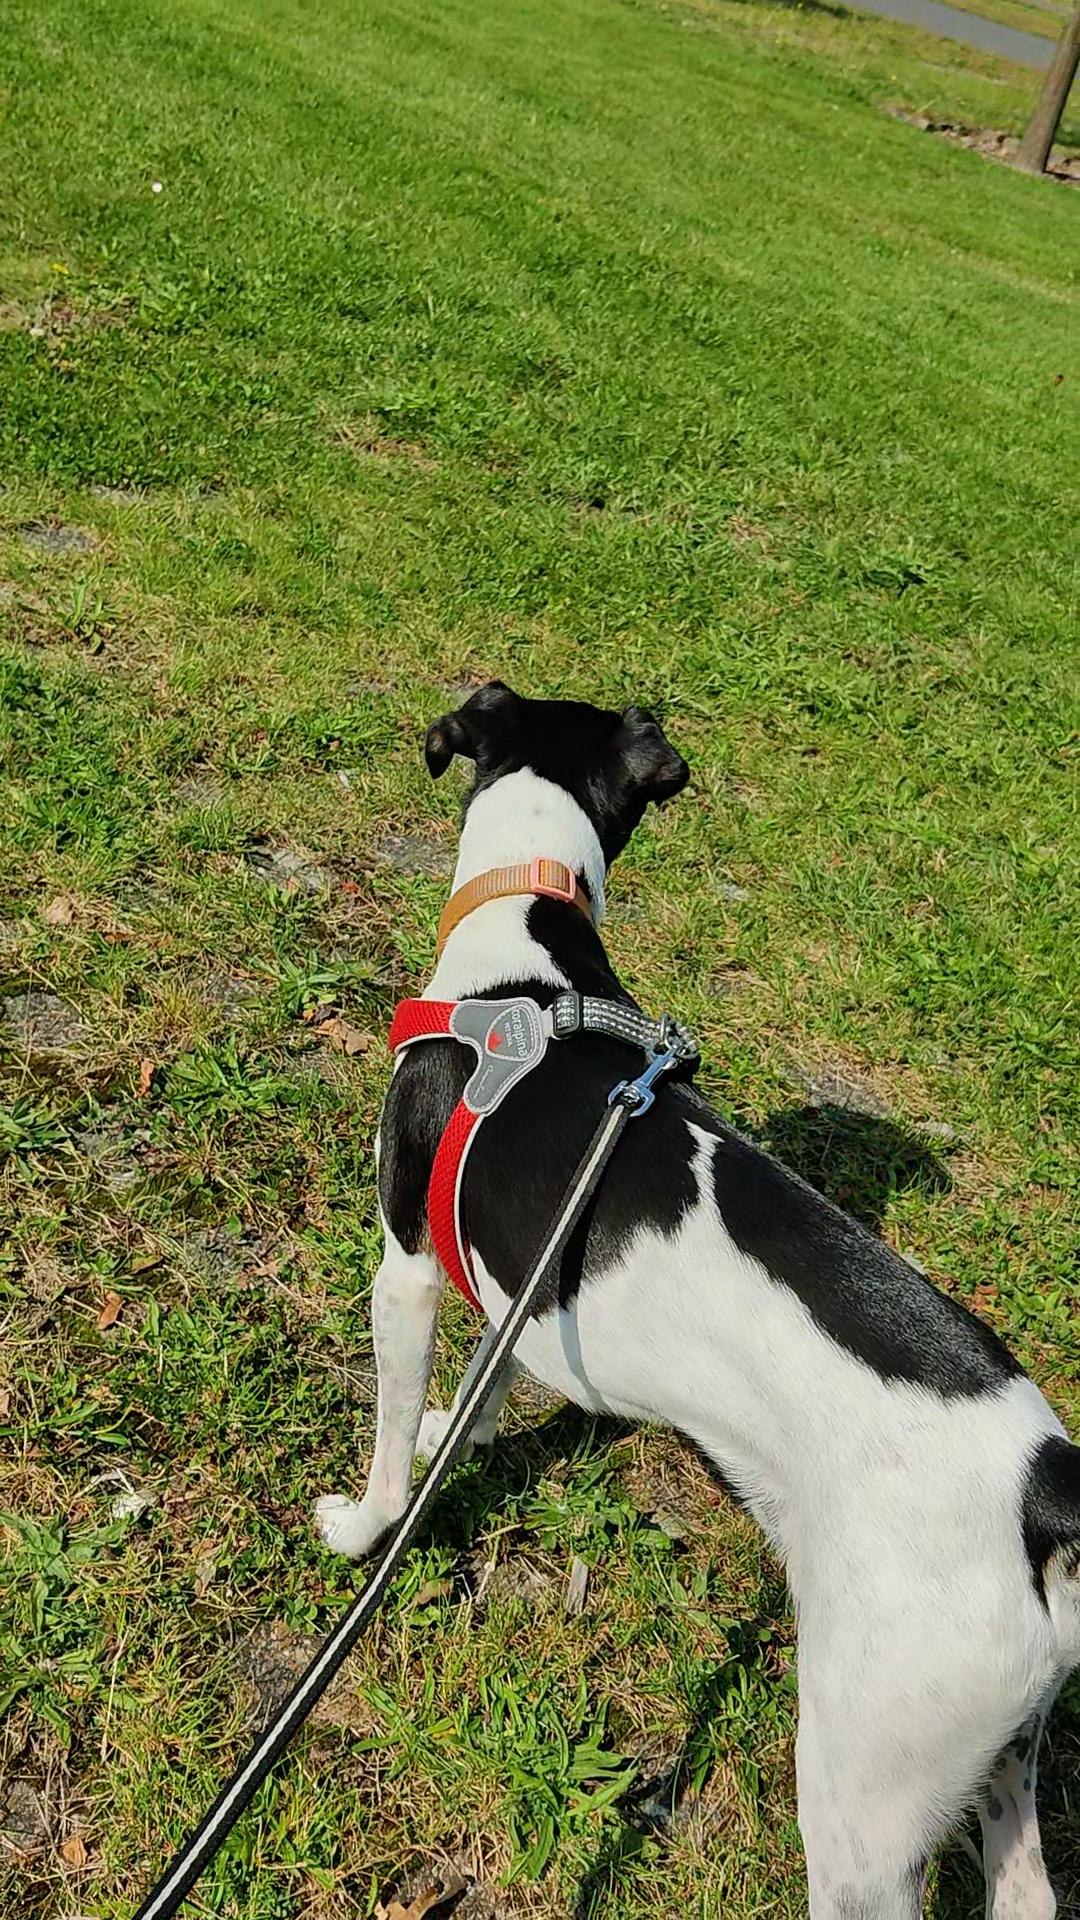Dog: (299, 659, 1079, 1919)
